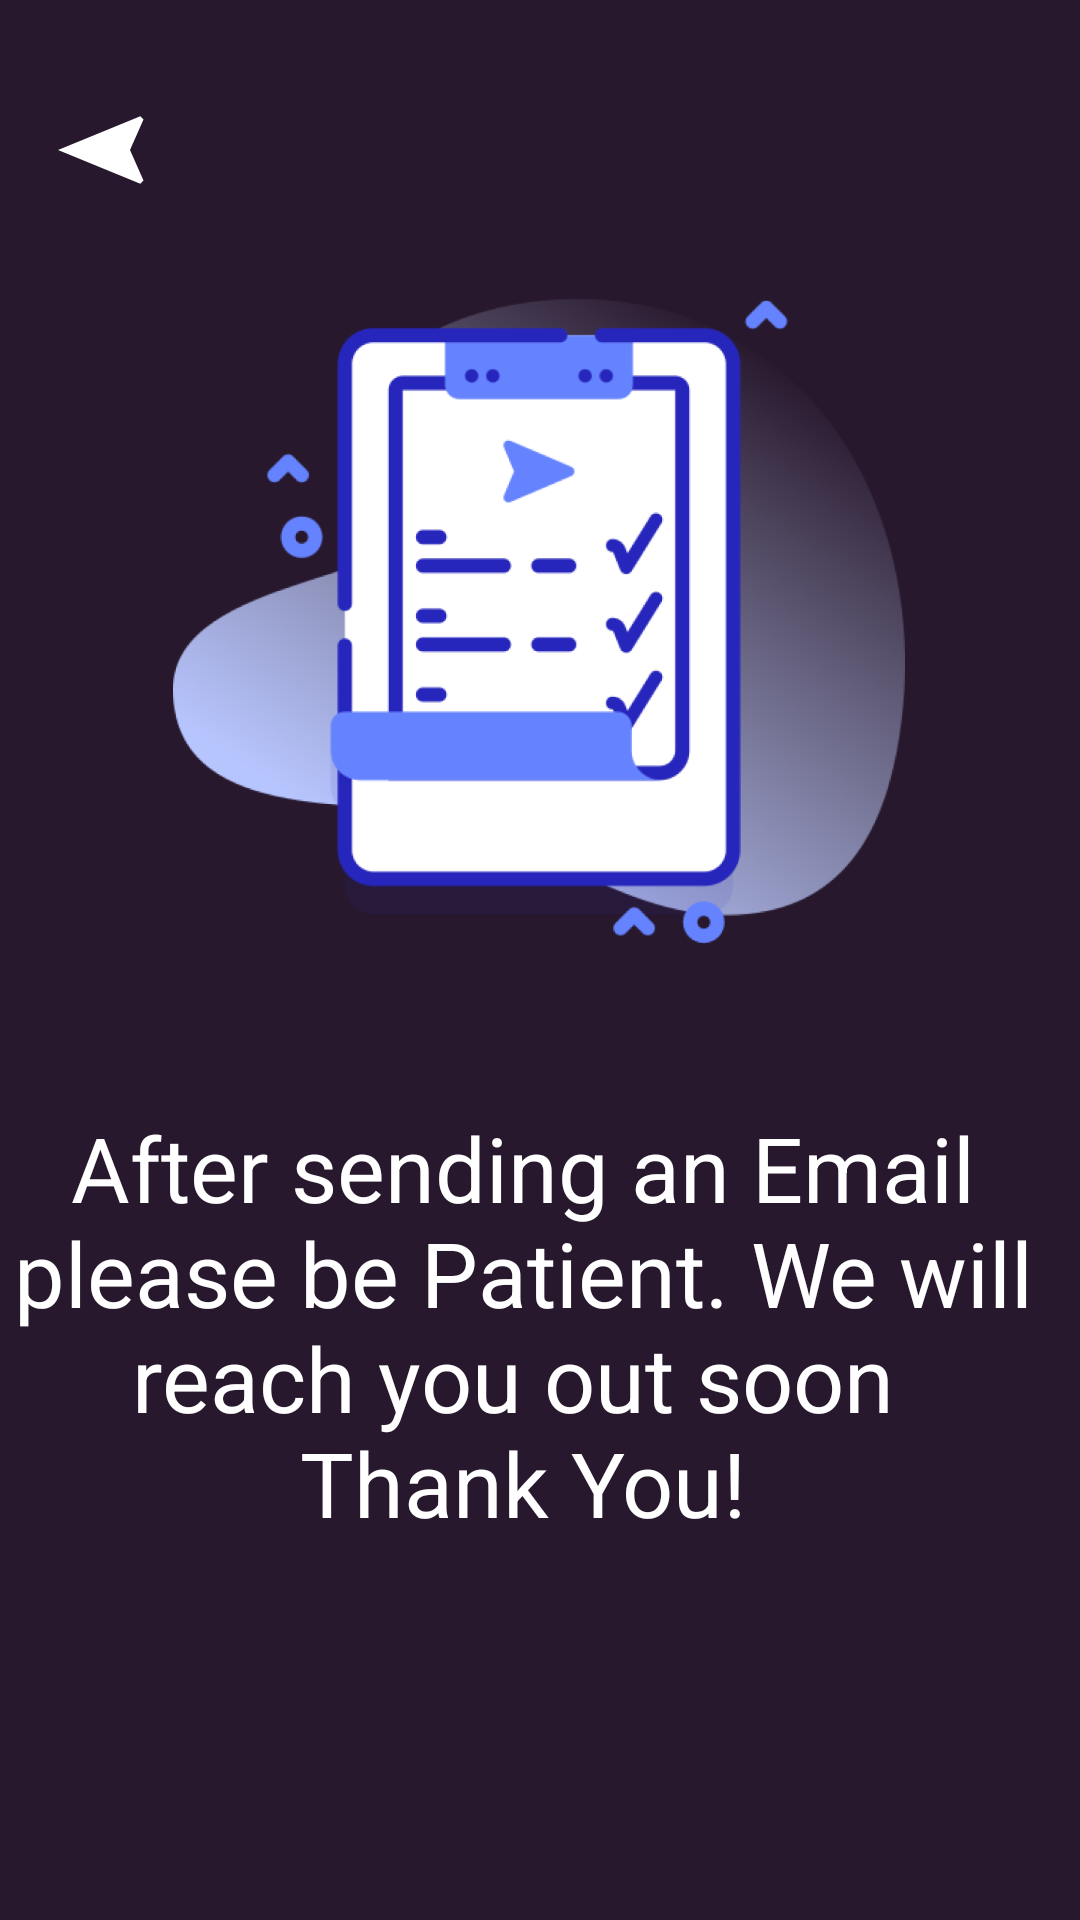

Named icons in this screenshot (1080w x 1920h) and their centers, (x=x, y=y):
go back: (x=101, y=150)
